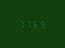nine: (39, 20, 45, 28)
seven: (18, 20, 24, 28), (25, 20, 31, 28)
six: (32, 20, 38, 28)
